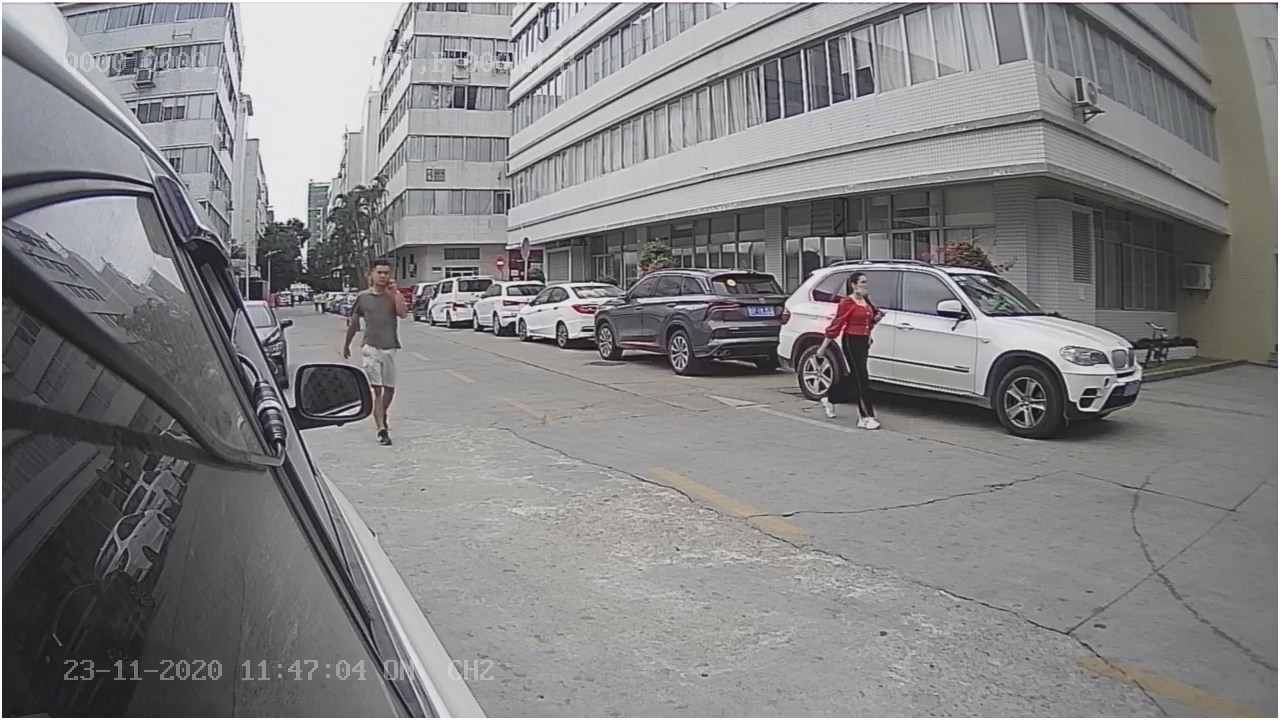person: (810, 262, 883, 433), (344, 246, 417, 362)
